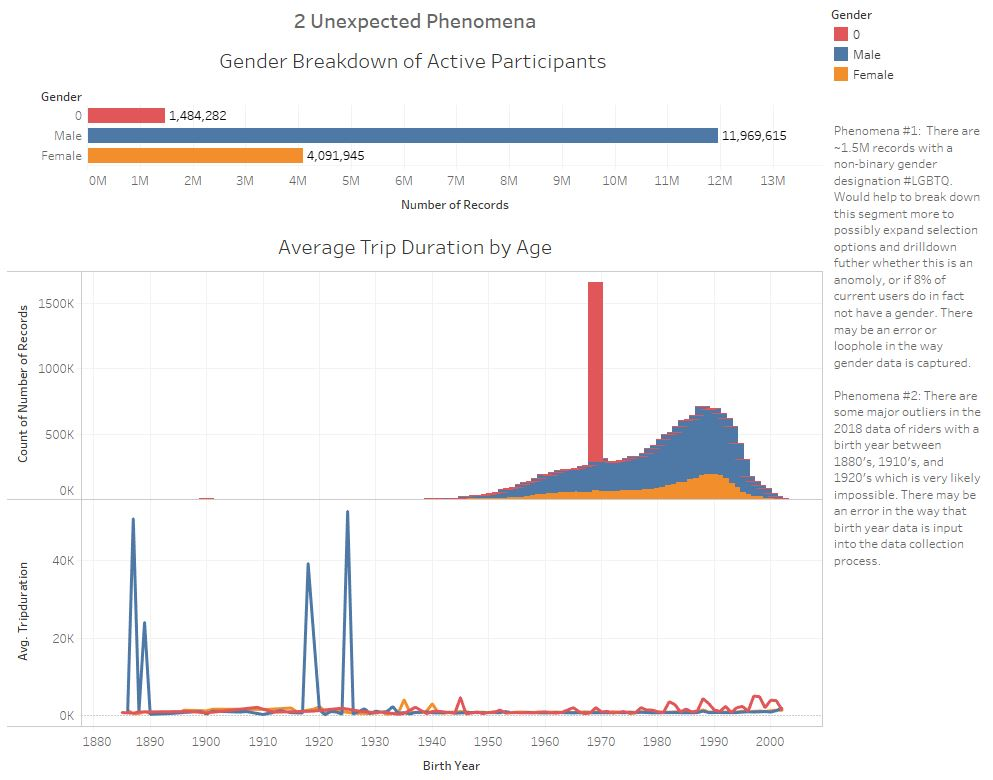

This screenshot's page, from the dashboard's own definition file:
{"tool":"tableau","page":{"name":"Dashboard 1","canvas":[1000,800],"ordinal":0},"visuals":[{"type":"text","box":[8,8,824,36]},{"type":"legend","title":"Sheet 9","param":"[federated.0nol3ks1dgi1271b4hfef1el0j15].[none:usertype:nk]","box":[832,8,160,66]},{"type":"worksheet","title":"Sheet 9","mark":"Automatic","rows":["gender"],"cols":["Number of Records"],"box":[8,44,824,186]},{"type":"text","box":[832,74,160,527]},{"type":"worksheet","title":"Sheet 10","mark":"Bar","rows":["Number of Records","tripduration"],"cols":["birth year"],"box":[8,230,824,562]}]}

Visuals, with their boxes in screenshot pixels (x1, y1, x2, y2), scaled from the page's 1000x800 canvas onto the 993x780 screenshot:
text: left=8, top=8, right=826, bottom=43
"Sheet 9" legend: left=826, top=8, right=985, bottom=72
"Sheet 9" worksheet: left=8, top=43, right=826, bottom=224
text: left=826, top=72, right=985, bottom=586
"Sheet 10" worksheet (Bar marks): left=8, top=224, right=826, bottom=772
